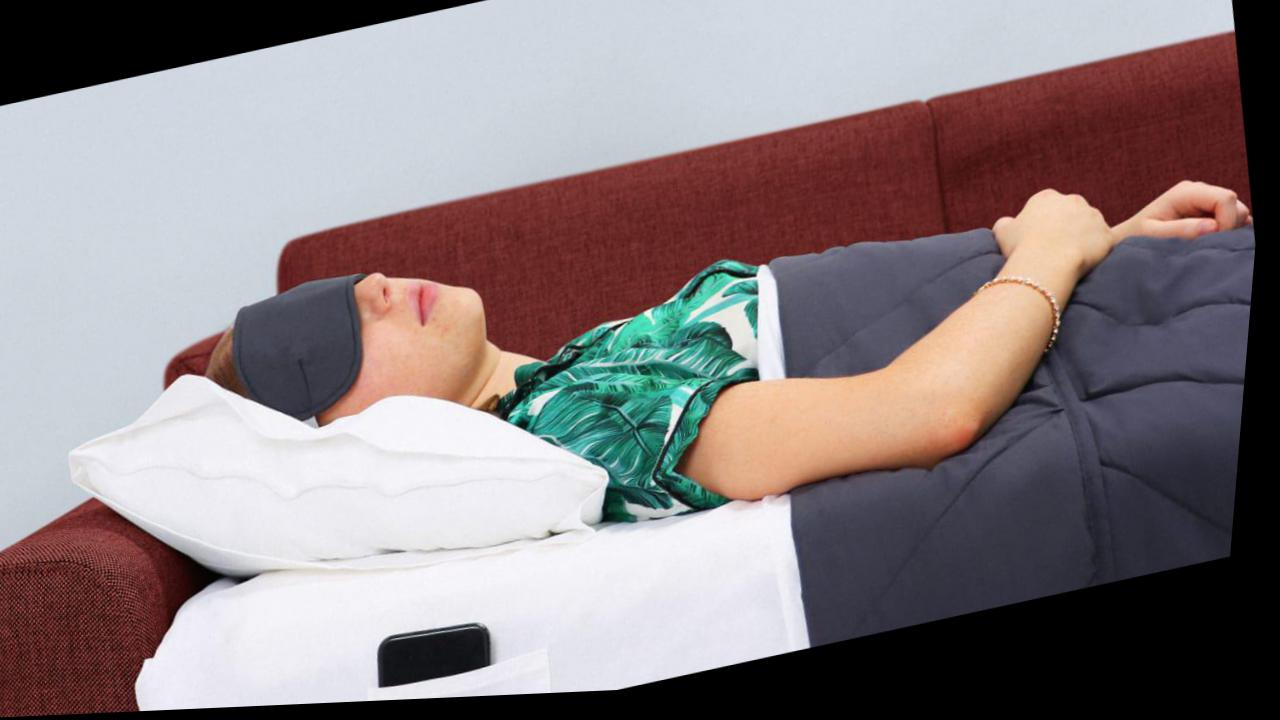WRONG: (261, 245, 508, 416)
